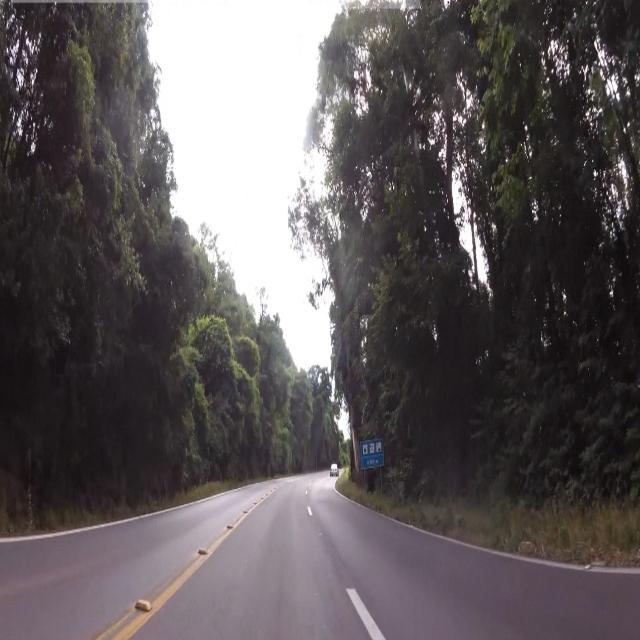LOC-6: (358, 438, 390, 478)
